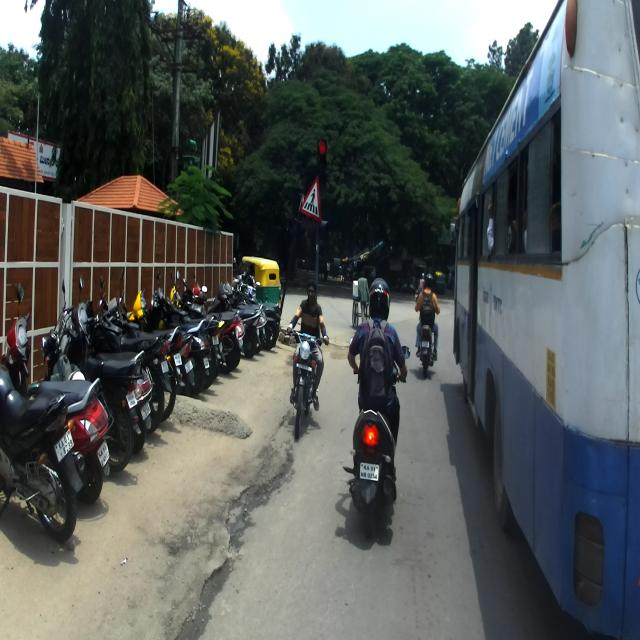bus ahead at: (448, 0, 639, 640)
motorcycle ahead at: (0, 368, 81, 540), (347, 396, 405, 539), (284, 326, 322, 435)
sign board ahead at: (302, 178, 320, 223)
traffic signal ahead at: (314, 131, 329, 183)
